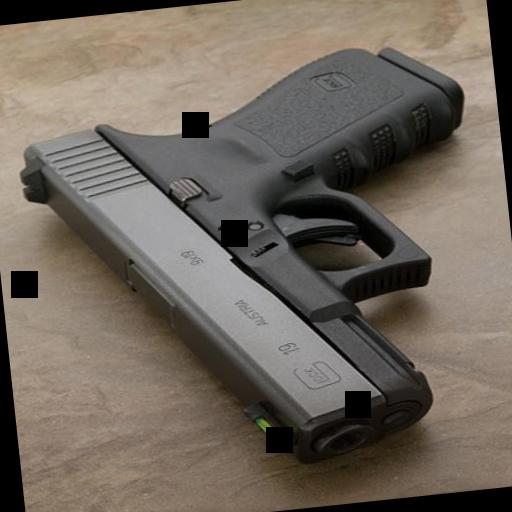Handgun: (6, 35, 504, 488)
